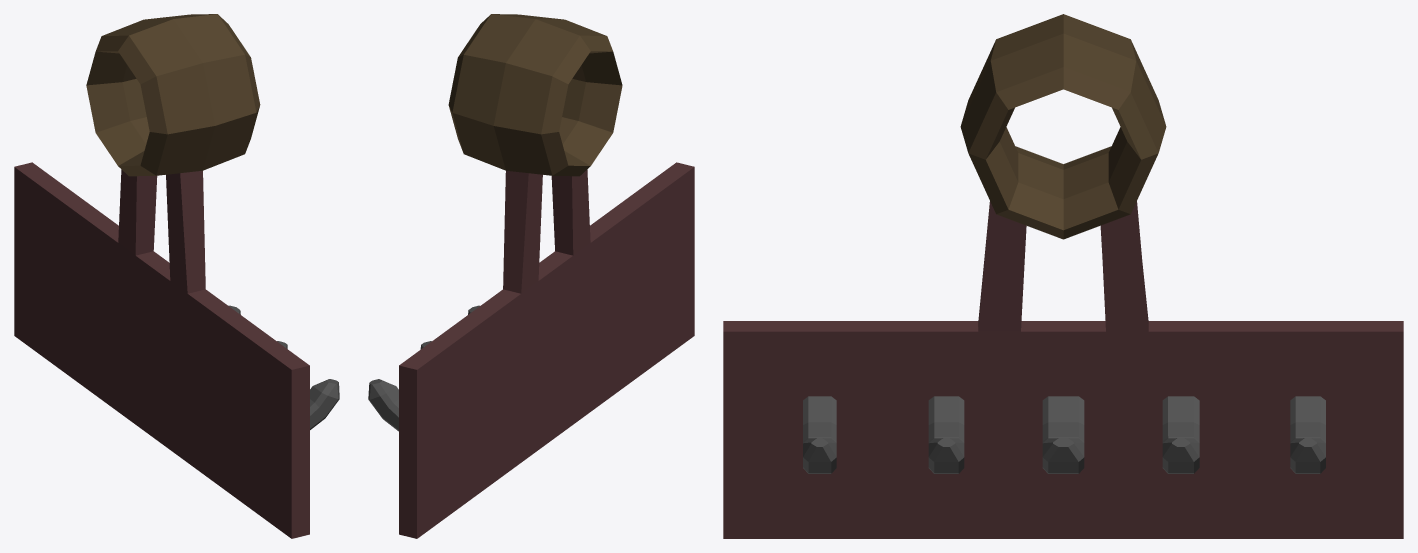
Rendered from HookRack.fbx.
3 renders of one model, left to right at view 1: azimuth 30°, elevation 25°; view 2: azimuth 150°, elevation 25°; view 3: azimuth 270°, elevation 25°, orthographic. The views are drawn at different scales.
Visible parts, largest first — view 1: HookRack; view 2: HookRack; view 3: HookRack.
Part boxes in pixels (bbox=[...]): HookRack: bbox=[14, 14, 339, 538]; HookRack: bbox=[368, 14, 694, 538]; HookRack: bbox=[723, 14, 1403, 538].
Bounding box in the file's own units: 33.13 × 109 × 132.
